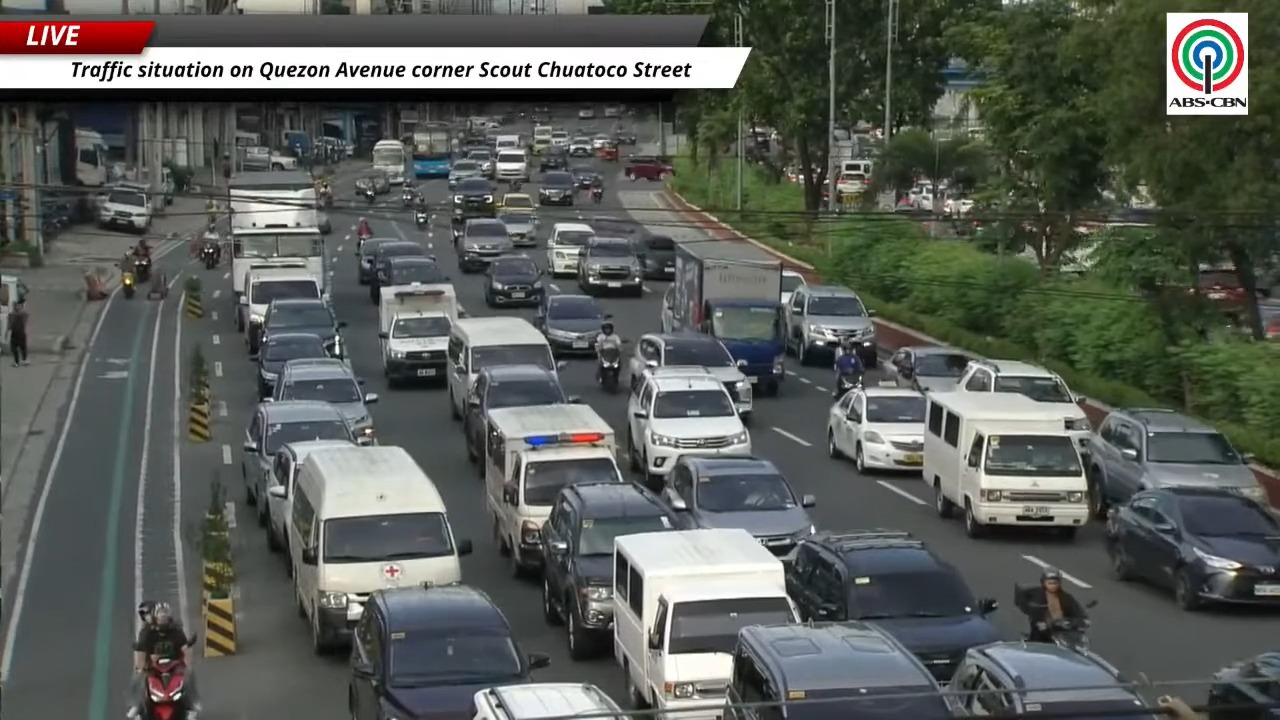bus: (411, 123, 454, 179), (372, 139, 408, 184)
car: (785, 529, 999, 682), (348, 585, 549, 719), (540, 481, 674, 659), (722, 622, 953, 719), (1107, 486, 1279, 609), (1087, 408, 1265, 516), (948, 642, 1156, 719), (626, 366, 751, 490), (662, 456, 815, 555), (242, 399, 356, 524), (957, 358, 1092, 455), (463, 365, 571, 465), (265, 439, 357, 556), (628, 333, 752, 418), (828, 386, 925, 472), (273, 360, 377, 438), (784, 285, 876, 367), (246, 298, 345, 358), (473, 682, 625, 719), (1206, 652, 1279, 719), (257, 333, 328, 399), (534, 294, 605, 354), (884, 345, 974, 391), (576, 236, 643, 296), (369, 240, 427, 303), (455, 218, 513, 272), (485, 255, 544, 306), (546, 222, 595, 276), (98, 186, 151, 232), (354, 237, 401, 284), (380, 255, 449, 286), (451, 176, 494, 225), (633, 233, 675, 279), (496, 210, 537, 247), (538, 170, 575, 205), (588, 216, 644, 238), (623, 156, 673, 180), (448, 159, 487, 189), (355, 169, 391, 195), (780, 269, 806, 305), (497, 193, 536, 216), (835, 172, 869, 197), (466, 148, 494, 178), (569, 165, 601, 189), (539, 147, 567, 172), (568, 137, 593, 157), (317, 210, 332, 234), (590, 133, 612, 149), (612, 131, 637, 145), (551, 130, 569, 149), (603, 105, 620, 117), (577, 108, 594, 119)
motorcycle: (142, 652, 187, 719), (1047, 618, 1089, 651), (1048, 618, 1089, 651), (597, 346, 620, 393), (834, 372, 863, 398), (201, 241, 219, 269), (134, 256, 151, 281), (121, 270, 135, 298), (414, 208, 430, 228), (401, 188, 416, 207), (320, 187, 332, 208), (362, 187, 375, 204), (590, 187, 603, 203), (510, 178, 522, 192)
truck: (613, 528, 797, 719), (483, 403, 623, 574), (662, 241, 784, 395), (226, 170, 326, 302), (236, 260, 327, 354), (378, 284, 457, 385), (238, 145, 296, 171), (281, 129, 311, 157)
